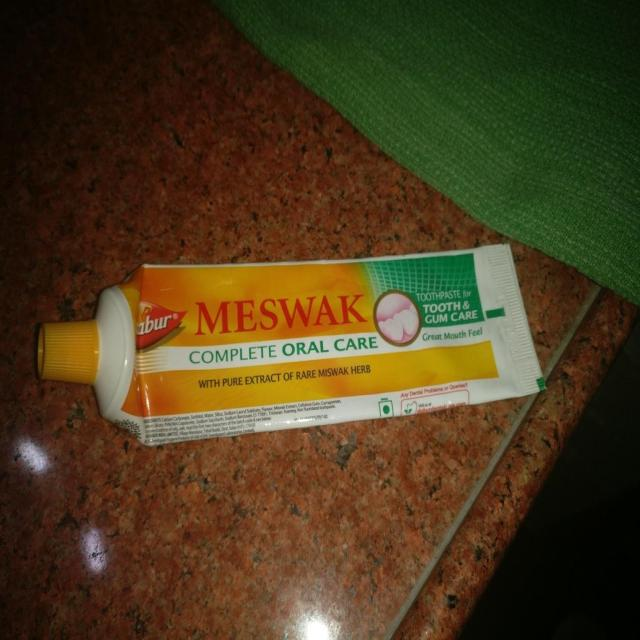Toothpaste: (36, 238, 551, 448)
